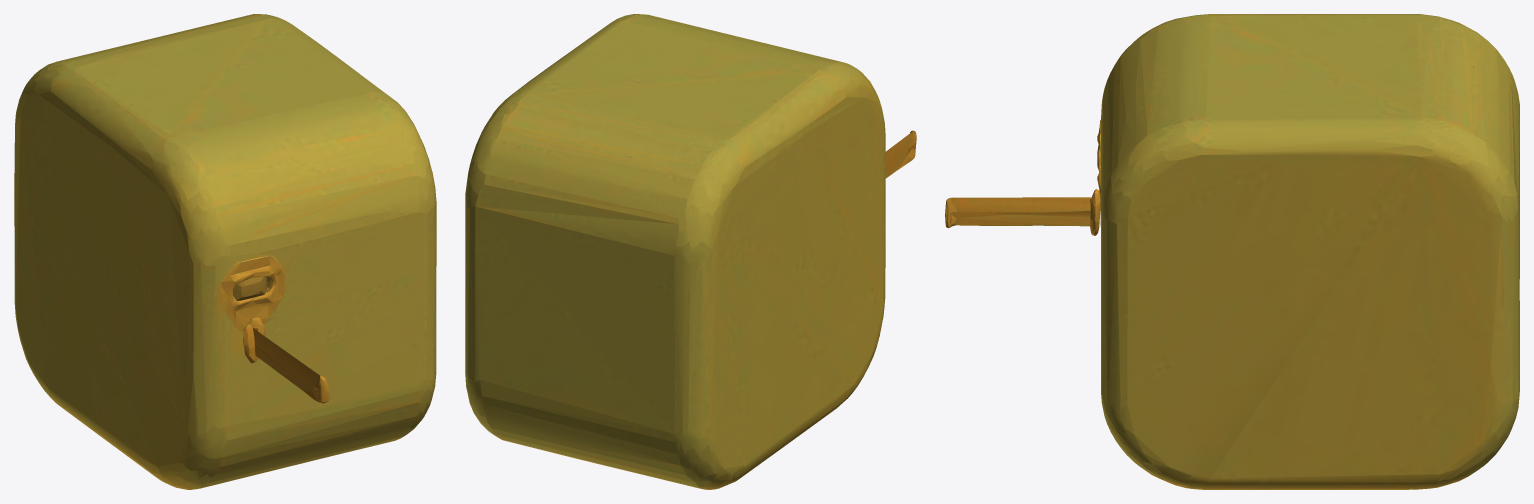
Rendered from sponge.b14804d4.glb.
3 views of the same model, side by side, from view 1: azimuth 30°, elevation 25°; view 2: azimuth 150°, elevation 25°; view 3: azimuth 270°, elevation 25° (orthographic). The views are drawn at different scales.
Parts seen in each view (by area): view 1: output_unwrapped; view 2: output_unwrapped; view 3: output_unwrapped.
Part boxes in pixels (x1,y1,x2,y2): output_unwrapped: (14,14,436,489); output_unwrapped: (465,14,916,489); output_unwrapped: (945,14,1519,489).
Size of the model in its own units: 1.02 by 1.35 by 1.9.
Materials: 1 (1 with a texture image).
